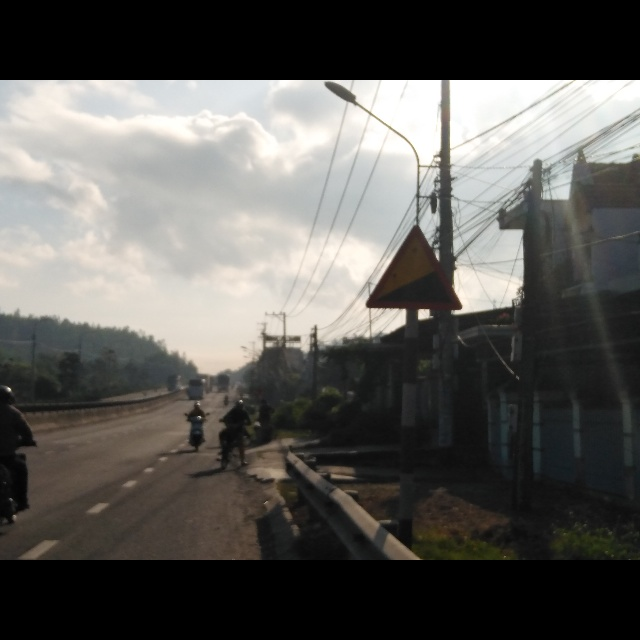Dốc lên nguy hiểm: (363, 220, 462, 310)
